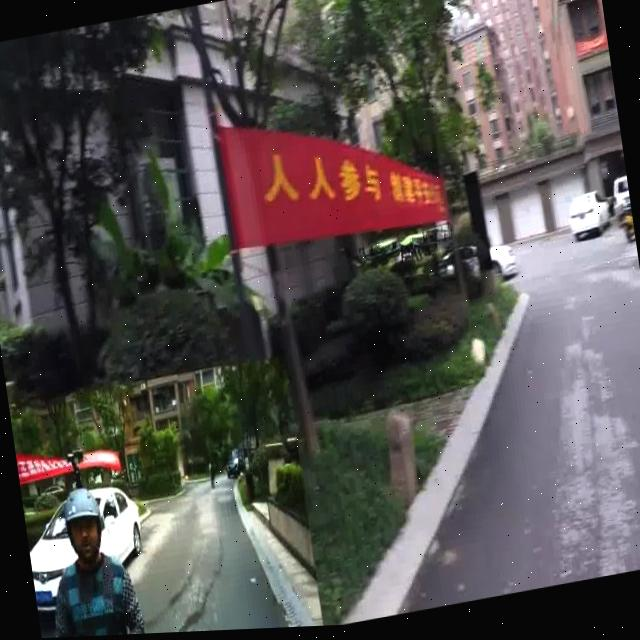drone: (334, 202, 464, 309)
